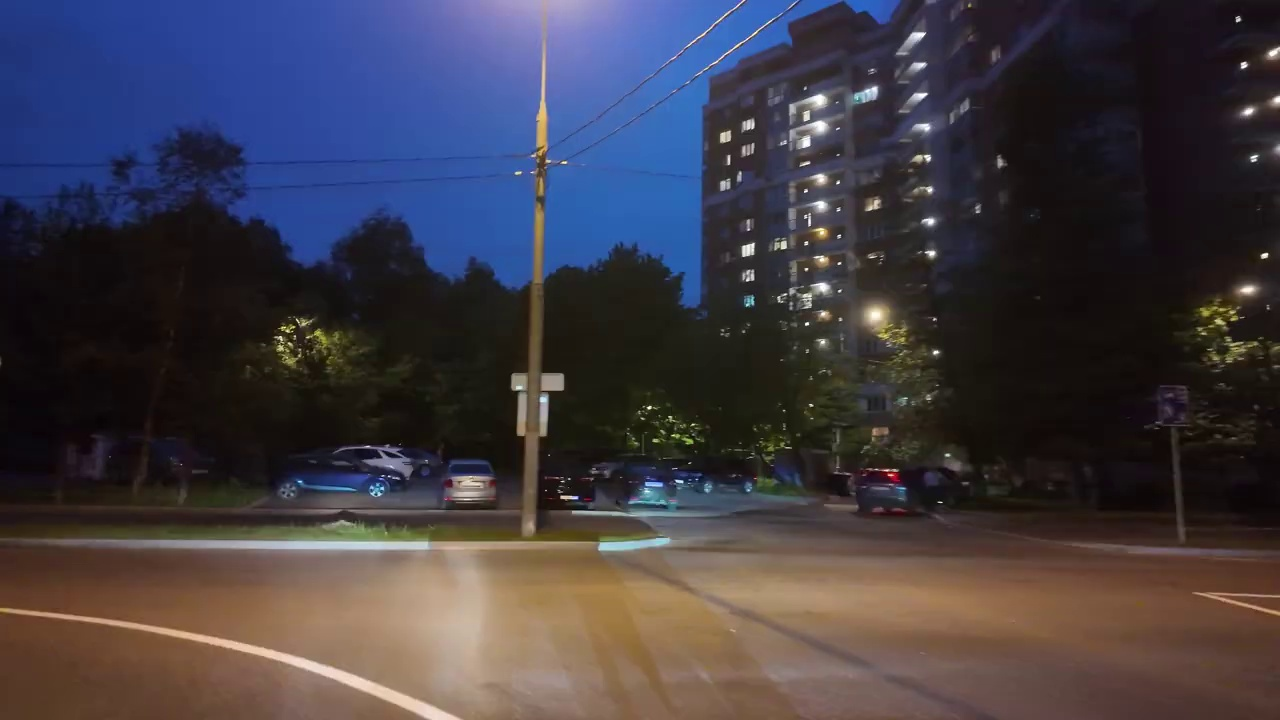acesa: (861, 301, 895, 338)
